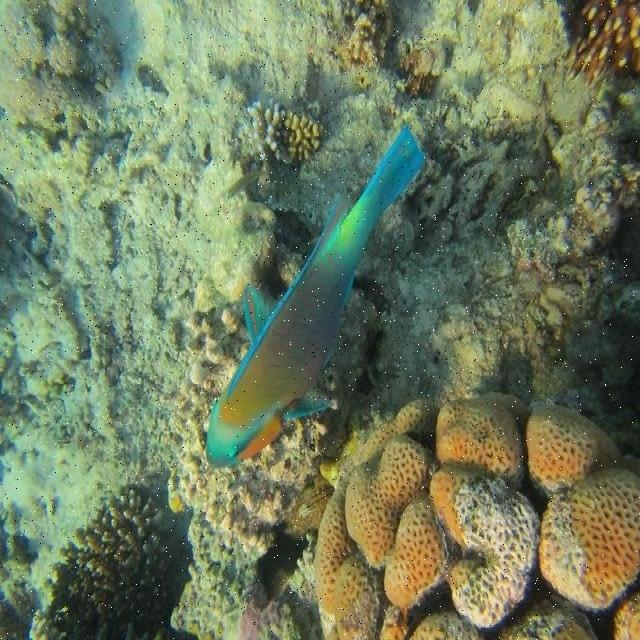fish: (206, 128, 426, 468)
reefs: (314, 391, 639, 639), (30, 483, 170, 638)
